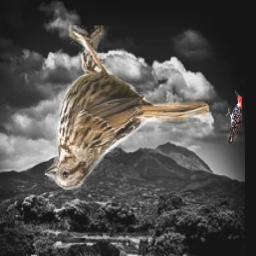Sparrow: (46, 25, 210, 190)
Woodpecker: (226, 91, 243, 144)
